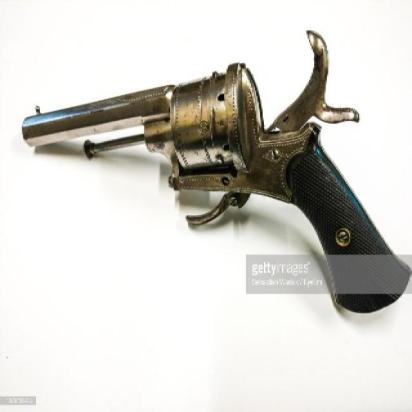Gun: (19, 23, 411, 312)
